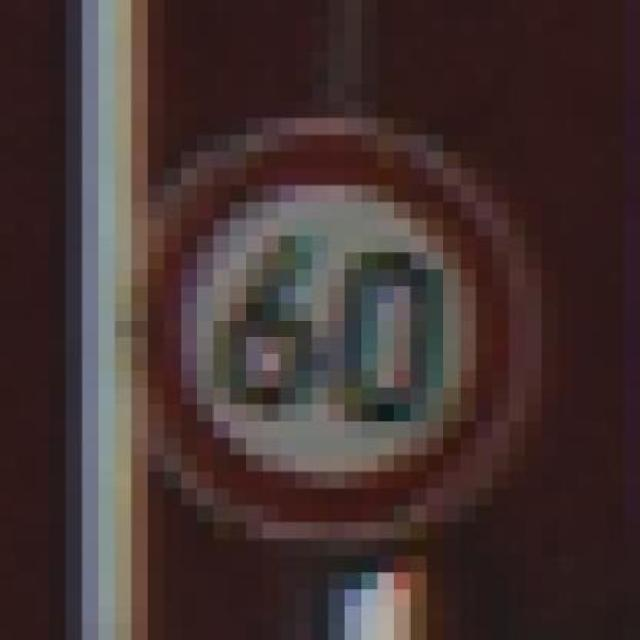forb_speed_over_60: (140, 125, 515, 539)
